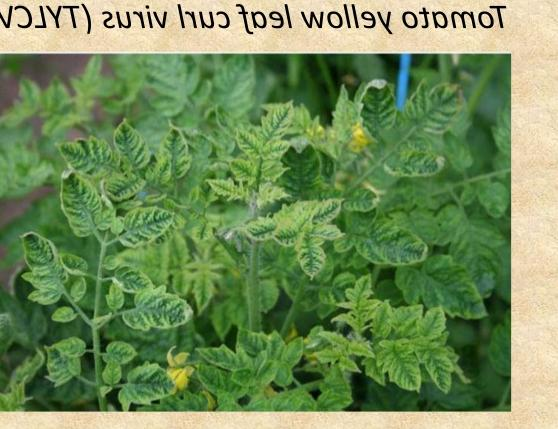Tomato leaf yellow virus: (385, 247, 493, 322), (356, 210, 431, 271), (400, 77, 465, 131), (15, 232, 74, 291), (133, 282, 197, 334), (104, 110, 152, 178), (57, 174, 103, 244), (158, 124, 196, 204), (350, 76, 394, 144), (48, 133, 117, 174), (255, 93, 308, 146), (116, 206, 175, 253), (114, 363, 182, 402), (381, 148, 444, 187), (294, 228, 330, 288), (186, 345, 251, 375), (415, 344, 457, 390), (409, 303, 448, 350), (384, 342, 419, 394), (233, 212, 280, 249), (221, 125, 262, 164), (302, 196, 347, 231), (279, 335, 306, 376), (367, 302, 392, 339), (263, 133, 289, 162), (314, 328, 348, 348)
